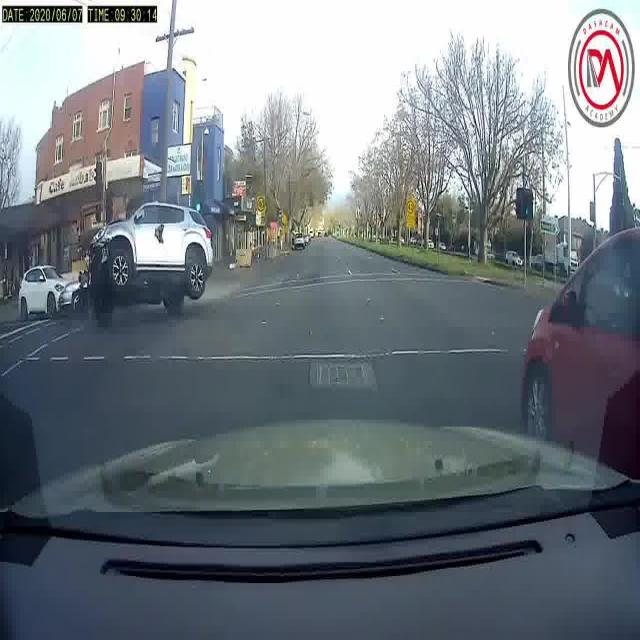Accident: (52, 169, 224, 343)
